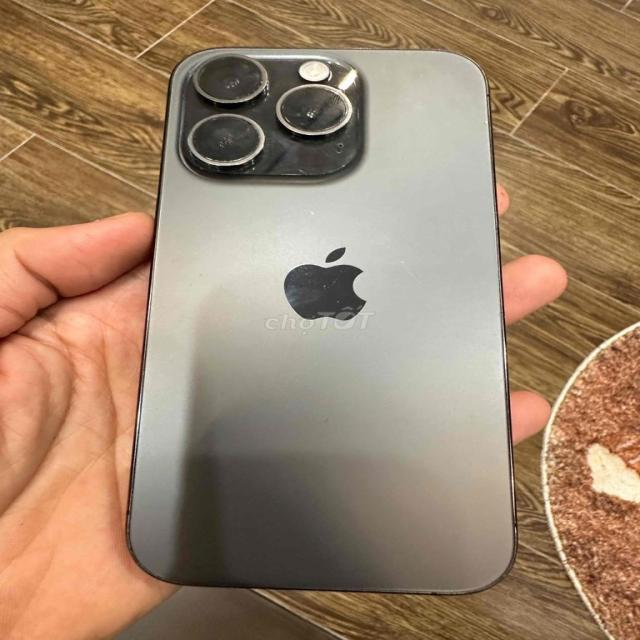gen_15: (113, 28, 531, 619)
scratch: (284, 259, 366, 320), (279, 88, 351, 132), (397, 257, 432, 290), (122, 468, 134, 551), (195, 155, 259, 166), (324, 163, 353, 172), (276, 170, 302, 178), (321, 415, 332, 424)
